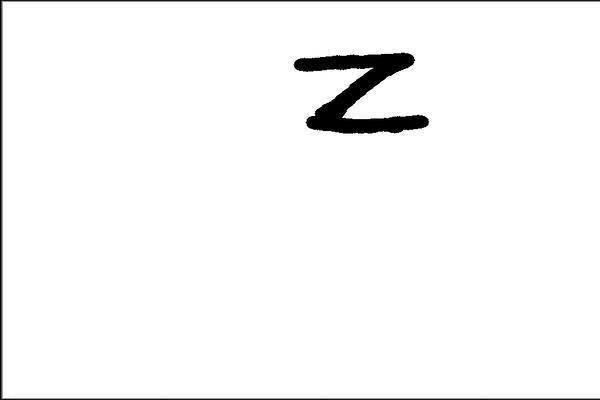Z: (288, 48, 434, 138)
